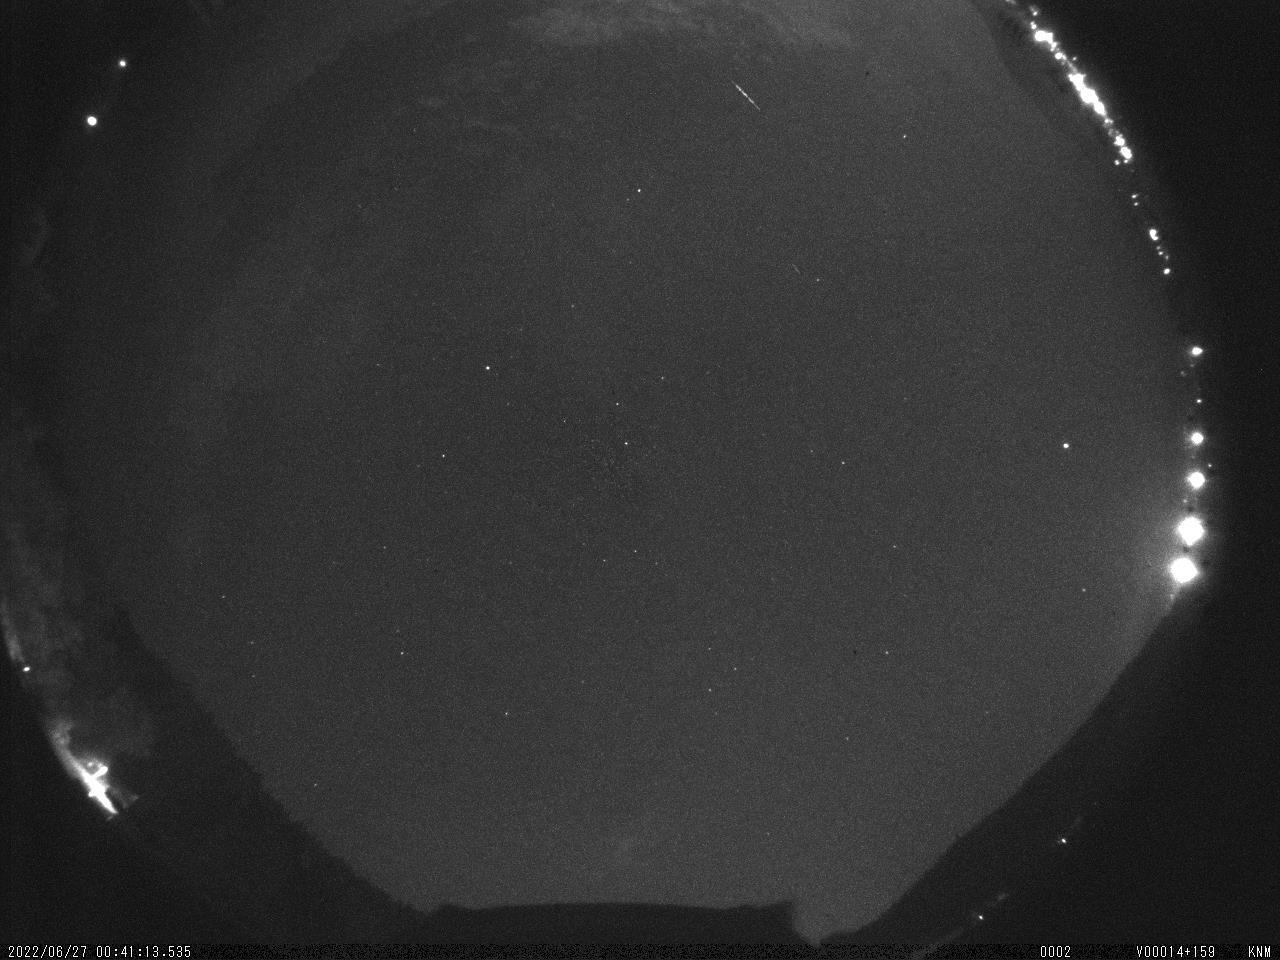Meteor: (726, 75, 767, 118)
